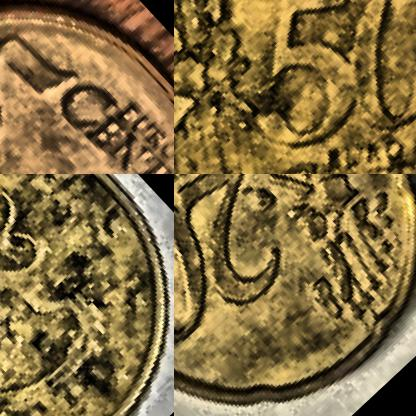coin: (174, 174, 415, 415), (174, 0, 415, 173), (0, 174, 173, 415), (0, 0, 173, 173)
